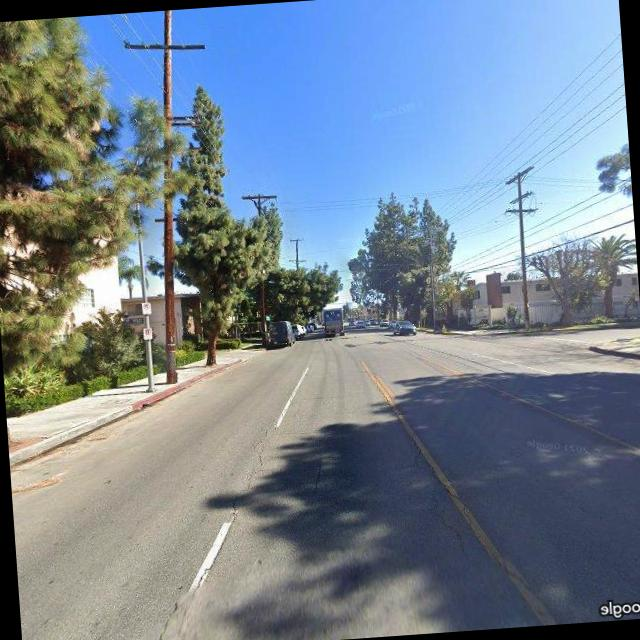pothole: (388, 391, 488, 558), (194, 418, 288, 584)
